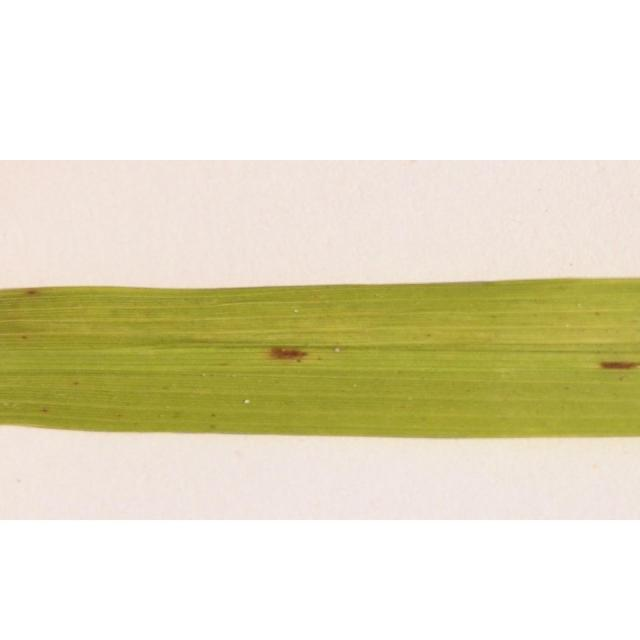Brown spot: (232, 332, 322, 377), (592, 350, 640, 376), (18, 284, 47, 304), (60, 373, 86, 393), (13, 328, 36, 350), (38, 400, 56, 416)
